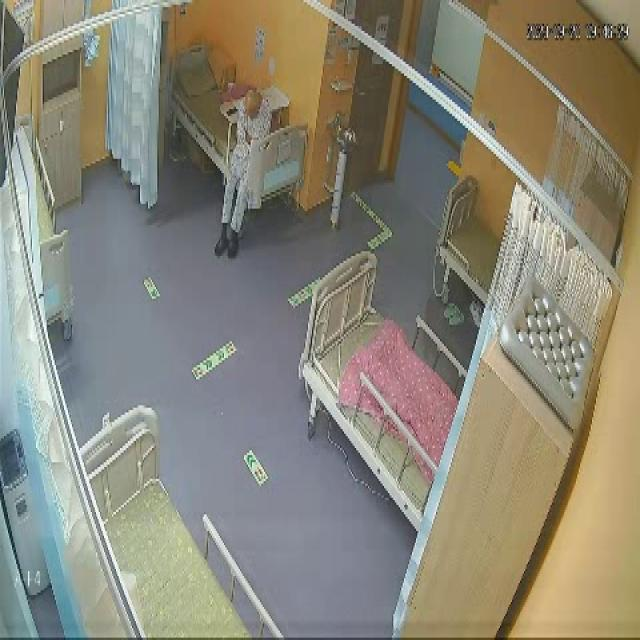bed: (78, 409, 283, 640), (302, 253, 458, 528), (164, 42, 309, 210), (438, 176, 502, 306)
patient: (214, 85, 274, 258)
sit: (215, 89, 272, 258)
